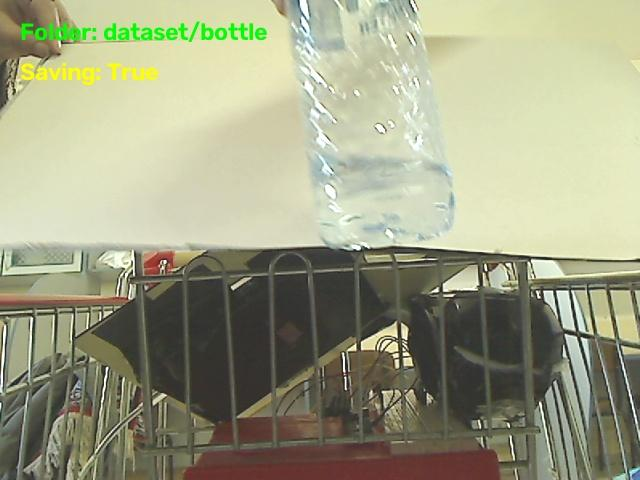Bottle: (287, 0, 454, 249)
